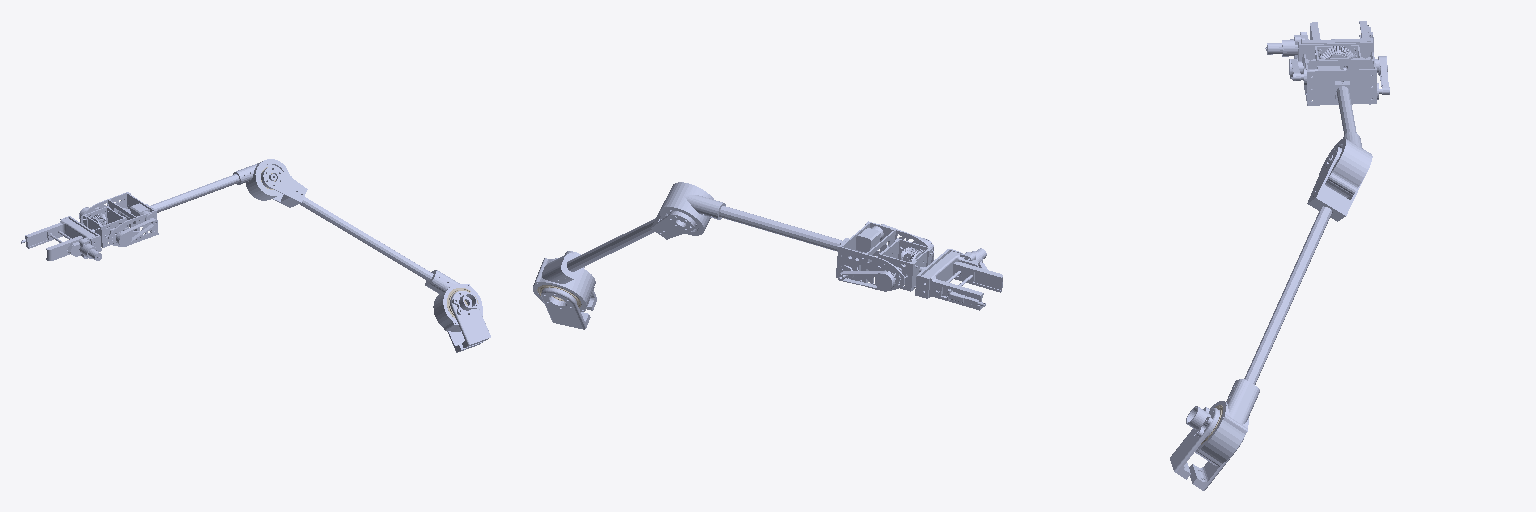
The robot description file, URDF, robot "FILES":
<?xml version="1.0" encoding="utf-8"?>
<!-- This URDF was automatically created by SolidWorks to URDF Exporter! Originally created by [author] ([email redacted]) 
     Commit Version: 1.6.1-11-gaed57c3-dirty  Build Version: 1.6.9301.26718
     For more information, please see http://wiki.ros.org/sw_urdf_exporter -->
<robot
  name="FILES">
  <link
    name="base_mount ">
    <inertial>
      <origin
        xyz="1.0998 -0.41056 0.55425"
        rpy="0 0 0" />
      <mass
        value="0.45816" />
      <inertia
        ixx="0.0013711"
        ixy="0.00010032"
        ixz="-5.1045E-05"
        iyy="0.00083591"
        iyz="0.0006243"
        izz="0.0011845" />
    </inertial>
    <visual>
      <origin
        xyz="0 0 0"
        rpy="0 0 0" />
      <geometry>
        <mesh
          filename="package://FILES/meshes/base_mount .STL" />
      </geometry>
      <material
        name="">
        <color
          rgba="0.79216 0.81961 0.93333 1" />
      </material>
    </visual>
    <collision>
      <origin
        xyz="0 0 0"
        rpy="0 0 0" />
      <geometry>
        <mesh
          filename="package://FILES/meshes/base_mount .STL" />
      </geometry>
    </collision>
  </link>
  <link
    name="motor_mount ">
    <inertial>
      <origin
        xyz="-0.000109914347035556 2.55627739711439E-05 0.00443722369134752"
        rpy="0 0 0" />
      <mass
        value="0.0443532648038581" />
      <inertia
        ixx="1.54477426810479E-05"
        ixy="-2.24280180527475E-08"
        ixz="-3.13818526286825E-08"
        iyy="2.34667764715966E-05"
        iyz="7.29847583302344E-09"
        izz="3.0126530505063E-05" />
    </inertial>
    <visual>
      <origin
        xyz="0 0 0"
        rpy="0 0 0" />
      <geometry>
        <mesh
          filename="package://FILES/meshes/motor_mount .STL" />
      </geometry>
      <material
        name="">
        <color
          rgba="0.792156862745098 0.819607843137255 0.933333333333333 1" />
      </material>
    </visual>
    <collision>
      <origin
        xyz="0 0 0"
        rpy="0 0 0" />
      <geometry>
        <mesh
          filename="package://FILES/meshes/motor_mount .STL" />
      </geometry>
    </collision>
  </link>
  <joint
    name="motor_mount "
    type="fixed">
    <origin
      xyz="1.0983 -0.56488 -0.33744"
      rpy="-0.9167 0.042506 -3.019" />
    <parent
      link="base_mount " />
    <child
      link="motor_mount " />
    <axis
      xyz="0 0 0" />
  </joint>
  <link
    name="Bearing">
    <inertial>
      <origin
        xyz="0.0542629736525755 -0.000274501619444201 -8.43278345146192E-05"
        rpy="0 0 0" />
      <mass
        value="0.0892372697085313" />
      <inertia
        ixx="0.000228309865629767"
        ixy="-1.15196480826585E-19"
        ixz="7.86046575051991E-19"
        iyy="0.000115123102048288"
        iyz="4.06575814682064E-20"
        izz="0.000115123102048288" />
    </inertial>
    <visual>
      <origin
        xyz="0 0 0"
        rpy="0 0 0" />
      <geometry>
        <mesh
          filename="package://FILES/meshes/Bearing.STL" />
      </geometry>
      <material
        name="">
        <color
          rgba="0.776470588235294 0.756862745098039 0.737254901960784 1" />
      </material>
    </visual>
    <collision>
      <origin
        xyz="0 0 0"
        rpy="0 0 0" />
      <geometry>
        <mesh
          filename="package://FILES/meshes/Bearing.STL" />
      </geometry>
    </collision>
  </link>
  <joint
    name="Bearing"
    type="fixed">
    <origin
      xyz="0 0 0"
      rpy="-2.74451320836481 1.57079630572147 -0.207496226435203" />
    <parent
      link="motor_mount " />
    <child
      link="Bearing" />
    <axis
      xyz="0 0 0" />
  </joint>
  <link
    name="link1_case">
    <inertial>
      <origin
        xyz="0.0862182679991084 0.0272499956921421 -0.0130738686741636"
        rpy="0 0 0" />
      <mass
        value="0.484506613516174" />
      <inertia
        ixx="0.00082420637073408"
        ixy="-2.11455049840435E-11"
        ixz="0.000360880361588026"
        iyy="0.00448684984771087"
        iyz="3.9759125245592E-11"
        izz="0.00374696069768801" />
    </inertial>
    <visual>
      <origin
        xyz="0 0 0"
        rpy="0 0 0" />
      <geometry>
        <mesh
          filename="package://FILES/meshes/link1_case.STL" />
      </geometry>
      <material
        name="">
        <color
          rgba="0.792156862745098 0.819607843137255 0.933333333333333 1" />
      </material>
    </visual>
    <collision>
      <origin
        xyz="0 0 0"
        rpy="0 0 0" />
      <geometry>
        <mesh
          filename="package://FILES/meshes/link1_case.STL" />
      </geometry>
    </collision>
  </link>
  <joint
    name="link1_case"
    type="fixed">
    <origin
      xyz="0.0255 0.0097255 -8.4328E-05"
      rpy="3.1416 1.3272 1.5708" />
    <parent
      link="Bearing" />
    <child
      link="link1_case" />
    <axis
      xyz="0 0 0" />
  </joint>
  <link
    name="motor2_mount ">
    <inertial>
      <origin
        xyz="3.9186454708906E-06 -0.0135617668782025 -0.0539815772319162"
        rpy="0 0 0" />
      <mass
        value="0.316662661027314" />
      <inertia
        ixx="0.000703148188076945"
        ixy="8.71601132192064E-08"
        ixz="5.69663821148347E-09"
        iyy="0.000753620040947642"
        iyz="-1.41438769462502E-07"
        izz="0.000136308481732593" />
    </inertial>
    <visual>
      <origin
        xyz="0 0 0"
        rpy="0 0 0" />
      <geometry>
        <mesh
          filename="package://FILES/meshes/motor2_mount .STL" />
      </geometry>
      <material
        name="">
        <color
          rgba="0.792156862745098 0.819607843137255 0.933333333333333 1" />
      </material>
    </visual>
    <collision>
      <origin
        xyz="0 0 0"
        rpy="0 0 0" />
      <geometry>
        <mesh
          filename="package://FILES/meshes/motor2_mount .STL" />
      </geometry>
    </collision>
  </link>
  <joint
    name="motor2_mount "
    type="fixed">
    <origin
      xyz="0.74461 0.013314 -0.031931"
      rpy="1.5708 -1.4753 1.5708" />
    <parent
      link="link1_case" />
    <child
      link="motor2_mount " />
    <axis
      xyz="0 0 0" />
  </joint>
  <link
    name="bearing2">
    <inertial>
      <origin
        xyz="-0.0012501 -0.00060271 -0.013508"
        rpy="0 0 0" />
      <mass
        value="0.043652" />
      <inertia
        ixx="2.9185E-05"
        ixy="-3.1224E-10"
        ixz="3.2995E-11"
        iyy="2.9185E-05"
        iyz="5.7193E-11"
        izz="5.8016E-05" />
    </inertial>
    <visual>
      <origin
        xyz="0 0 0"
        rpy="0 0 0" />
      <geometry>
        <mesh
          filename="package://FILES/meshes/bearing2.STL" />
      </geometry>
      <material
        name="">
        <color
          rgba="0.77647 0.75686 0.73725 1" />
      </material>
    </visual>
    <collision>
      <origin
        xyz="0 0 0"
        rpy="0 0 0" />
      <geometry>
        <mesh
          filename="package://FILES/meshes/bearing2.STL" />
      </geometry>
    </collision>
  </link>
  <joint
    name="bearing2"
    type="fixed">
    <origin
      xyz="0 0.01 0"
      rpy="-1.5708 0.56634 0" />
    <parent
      link="motor2_mount " />
    <child
      link="bearing2" />
    <axis
      xyz="0 0 0" />
  </joint>
  <link
    name="link2_case">
    <inertial>
      <origin
        xyz="0.12676 0.029 -0.018115"
        rpy="0 0 0" />
      <mass
        value="0.40314" />
      <inertia
        ixx="0.00060698"
        ixy="-8.3618E-11"
        ixz="0.00012754"
        iyy="0.0017935"
        iyz="3.4759E-05"
        izz="0.0014376" />
    </inertial>
    <visual>
      <origin
        xyz="0 0 0"
        rpy="0 0 0" />
      <geometry>
        <mesh
          filename="package://FILES/meshes/link2_case.STL" />
      </geometry>
      <material
        name="">
        <color
          rgba="0.79216 0.81961 0.93333 1" />
      </material>
    </visual>
    <collision>
      <origin
        xyz="0 0 0"
        rpy="0 0 0" />
      <geometry>
        <mesh
          filename="package://FILES/meshes/link2_case.STL" />
      </geometry>
    </collision>
  </link>
  <joint
    name="link2_case"
    type="fixed">
    <origin
      xyz="0 0.01 0.005"
      rpy="-1.5708 0 -1.2914" />
    <parent
      link="bearing2" />
    <child
      link="link2_case" />
    <axis
      xyz="0 0 0" />
  </joint>
  <link
    name="pulley_motor_mount">
    <inertial>
      <origin
        xyz="-0.063798 0.044225 0.11237"
        rpy="0 0 0" />
      <mass
        value="0.62924" />
      <inertia
        ixx="0.0005893"
        ixy="0.00034065"
        ixz="1.1857E-06"
        iyy="0.00084445"
        iyz="1.7303E-06"
        izz="0.0011582" />
    </inertial>
    <visual>
      <origin
        xyz="0 0 0"
        rpy="0 0 0" />
      <geometry>
        <mesh
          filename="package://FILES/meshes/pulley_motor_mount.STL" />
      </geometry>
      <material
        name="">
        <color
          rgba="0.79216 0.81961 0.93333 1" />
      </material>
    </visual>
    <collision>
      <origin
        xyz="0 0 0"
        rpy="0 0 0" />
      <geometry>
        <mesh
          filename="package://FILES/meshes/pulley_motor_mount.STL" />
      </geometry>
    </collision>
  </link>
  <joint
    name="pulley_motor_mount"
    type="fixed">
    <origin
      xyz="0.60958 -0.064259 0.021934"
      rpy="-2.2565 0.49251 -0.3691" />
    <parent
      link="link2_case" />
    <child
      link="pulley_motor_mount" />
    <axis
      xyz="0 0 0" />
  </joint>
  <link
    name="motor_arm">
    <inertial>
      <origin
        xyz="-0.00737378676755127 0.000624148426062288 -0.112372506100675"
        rpy="0 0 0" />
      <mass
        value="0.137868194366152" />
      <inertia
        ixx="5.39030748715601E-05"
        ixy="-1.10412049257145E-05"
        ixz="6.02792065959792E-13"
        iyy="6.21731511112781E-05"
        iyz="1.12477411202604E-12"
        izz="4.65081517869447E-05" />
    </inertial>
    <visual>
      <origin
        xyz="0 0 0"
        rpy="0 0 0" />
      <geometry>
        <mesh
          filename="package://FILES/meshes/motor_arm.STL" />
      </geometry>
      <material
        name="">
        <color
          rgba="0.792156862745098 0.819607843137255 0.933333333333333 1" />
      </material>
    </visual>
    <collision>
      <origin
        xyz="0 0 0"
        rpy="0 0 0" />
      <geometry>
        <mesh
          filename="package://FILES/meshes/motor_arm.STL" />
      </geometry>
    </collision>
  </link>
  <joint
    name="motor_arm"
    type="fixed">
    <origin
      xyz="0.01 0 0"
      rpy="3.14159265358979 0 1.5707963267949" />
    <parent
      link="pulley_motor_mount" />
    <child
      link="motor_arm" />
    <axis
      xyz="0 0 0" />
  </joint>
  <link
    name="grippermotor_case">
    <inertial>
      <origin
        xyz="0.018 -0.049226 -0.0726"
        rpy="0 0 0" />
      <mass
        value="0.27348" />
      <inertia
        ixx="0.00049971"
        ixy="1.4401E-11"
        ixz="-1.1565E-07"
        iyy="0.00056554"
        iyz="-4.4972E-11"
        izz="0.00022841" />
    </inertial>
    <visual>
      <origin
        xyz="0 0 0"
        rpy="0 0 0" />
      <geometry>
        <mesh
          filename="package://FILES/meshes/grippermotor_case.STL" />
      </geometry>
      <material
        name="">
        <color
          rgba="0.79216 0.81961 0.93333 1" />
      </material>
    </visual>
    <collision>
      <origin
        xyz="0 0 0"
        rpy="0 0 0" />
      <geometry>
        <mesh
          filename="package://FILES/meshes/grippermotor_case.STL" />
      </geometry>
    </collision>
  </link>
  <joint
    name="grippermotor_case"
    type="fixed">
    <origin
      xyz="-0.025074 -0.0054377 -0.039773"
      rpy="0 0 0.60623" />
    <parent
      link="motor_arm" />
    <child
      link="grippermotor_case" />
    <axis
      xyz="0 0 0" />
  </joint>
  <link
    name="gripper_rotation">
    <inertial>
      <origin
        xyz="0 2.7756E-17 -0.027714"
        rpy="0 0 0" />
      <mass
        value="0.02074" />
      <inertia
        ixx="5.1141E-06"
        ixy="4.2352E-22"
        ixz="4.1602E-22"
        iyy="5.1141E-06"
        iyz="-4.5685E-22"
        izz="3.7261E-06" />
    </inertial>
    <visual>
      <origin
        xyz="0 0 0"
        rpy="0 0 0" />
      <geometry>
        <mesh
          filename="package://FILES/meshes/gripper_rotation.STL" />
      </geometry>
      <material
        name="">
        <color
          rgba="0.79216 0.81961 0.93333 1" />
      </material>
    </visual>
    <collision>
      <origin
        xyz="0 0 0"
        rpy="0 0 0" />
      <geometry>
        <mesh
          filename="package://FILES/meshes/gripper_rotation.STL" />
      </geometry>
    </collision>
  </link>
  <joint
    name="gripper_rotation"
    type="fixed">
    <origin
      xyz="0.0180000000000046 0.00325622113770135 -0.0726000000000036"
      rpy="-1.5707963267949 0.9215422073265 3.14159265358844" />
    <parent
      link="grippermotor_case" />
    <child
      link="gripper_rotation" />
    <axis
      xyz="0 0 0" />
  </joint>
  <link
    name="gripper">
    <inertial>
      <origin
        xyz="-0.030856 -0.0027507 -0.058352"
        rpy="0 0 0" />
      <mass
        value="0.59377" />
      <inertia
        ixx="0.00068197"
        ixy="-4.8937E-07"
        ixz="5.6131E-05"
        iyy="0.0011159"
        iyz="9.46E-08"
        izz="0.00066995" />
    </inertial>
    <visual>
      <origin
        xyz="0 0 0"
        rpy="0 0 0" />
      <geometry>
        <mesh
          filename="package://FILES/meshes/gripper.STL" />
      </geometry>
      <material
        name="">
        <color
          rgba="0.79216 0.81961 0.93333 1" />
      </material>
    </visual>
    <collision>
      <origin
        xyz="0 0 0"
        rpy="0 0 0" />
      <geometry>
        <mesh
          filename="package://FILES/meshes/gripper.STL" />
      </geometry>
    </collision>
  </link>
  <joint
    name="gripper"
    type="fixed">
    <origin
      xyz="-0.0589183563932434 -0.0443586033892409 -0.137018770197537"
      rpy="2.4923385341214 1.5707963267949 0" />
    <parent
      link="gripper_rotation" />
    <child
      link="gripper" />
    <axis
      xyz="0 0 0" />
  </joint>
</robot>

--- Facts derived from the render (not from the file) ---
3 views of the same robot in one strip: view 1: azimuth 30°, elevation 25°; view 2: azimuth 150°, elevation 25°; view 3: azimuth 270°, elevation 25° (orthographic).
Robot: FILES — 12 links, 11 joints (11 fixed); root link base_mount; default pose: all joints at 0.
Visible links, largest first — view 1: link1_case, gripper, link2_case, pulley_motor_mount, base_mount, motor2_mount, grippermotor_case; view 2: link2_case, gripper, pulley_motor_mount, link1_case, grippermotor_case, base_mount, motor2_mount; view 3: link1_case, link2_case, gripper, base_mount, pulley_motor_mount, motor2_mount, grippermotor_case.
Link boxes in pixels (left/top/right/bottom): link1_case: left=286, top=196, right=482, bottom=331; gripper: left=21, top=216, right=101, bottom=260; link2_case: left=127, top=159, right=291, bottom=212; pulley_motor_mount: left=79, top=192, right=158, bottom=246; base_mount: left=447, top=291, right=490, bottom=352; motor2_mount: left=261, top=166, right=307, bottom=207; grippermotor_case: left=83, top=199, right=139, bottom=247; link2_case: left=660, top=182, right=869, bottom=256; gripper: left=915, top=248, right=1002, bottom=310; pulley_motor_mount: left=836, top=221, right=933, bottom=291; link1_case: left=533, top=218, right=655, bottom=311; grippermotor_case: left=861, top=229, right=932, bottom=291; base_mount: left=541, top=287, right=596, bottom=329; motor2_mount: left=651, top=201, right=696, bottom=239; link1_case: left=1195, top=206, right=1332, bottom=466; link2_case: left=1309, top=69, right=1374, bottom=197; gripper: left=1265, top=21, right=1373, bottom=60; base_mount: left=1170, top=408, right=1244, bottom=490; pulley_motor_mount: left=1289, top=52, right=1389, bottom=105; motor2_mount: left=1307, top=146, right=1363, bottom=221; grippermotor_case: left=1307, top=45, right=1373, bottom=88.
Bounding box of the posed robot: 1.46 × 0.5202 × 0.6484 m (x, y, z).
Meshes: 12 distinct files referenced, 12 mesh visuals loaded (12 binary STL).